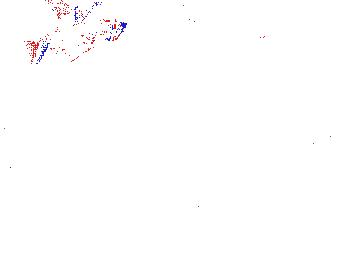red belly glassfish: (251, 31, 269, 43)
redtail glassfish: (20, 18, 129, 67), (38, 1, 89, 23)
siberian prawn: (1, 217, 36, 252)
